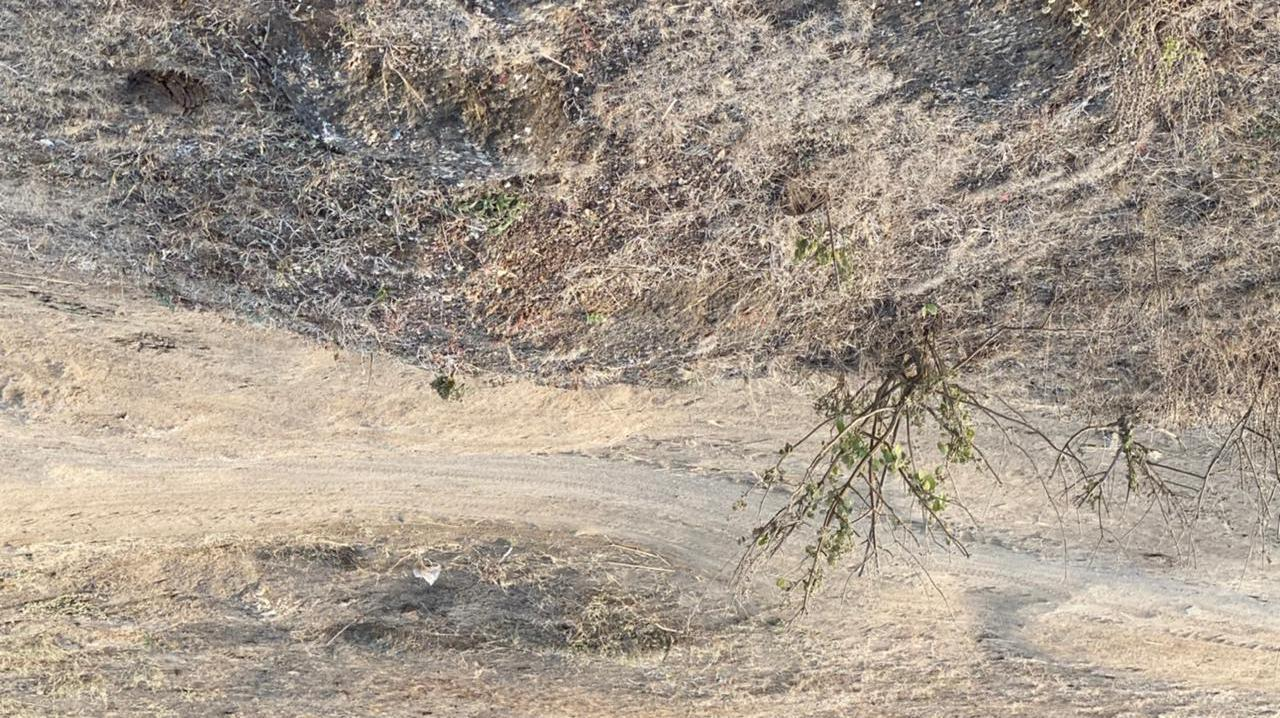vehicle_track: (0, 454, 1280, 657)
